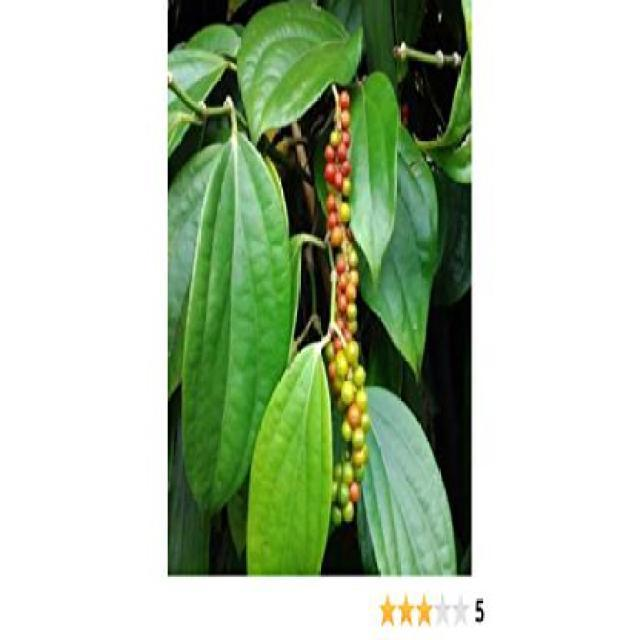RIPE: (326, 95, 365, 514)
